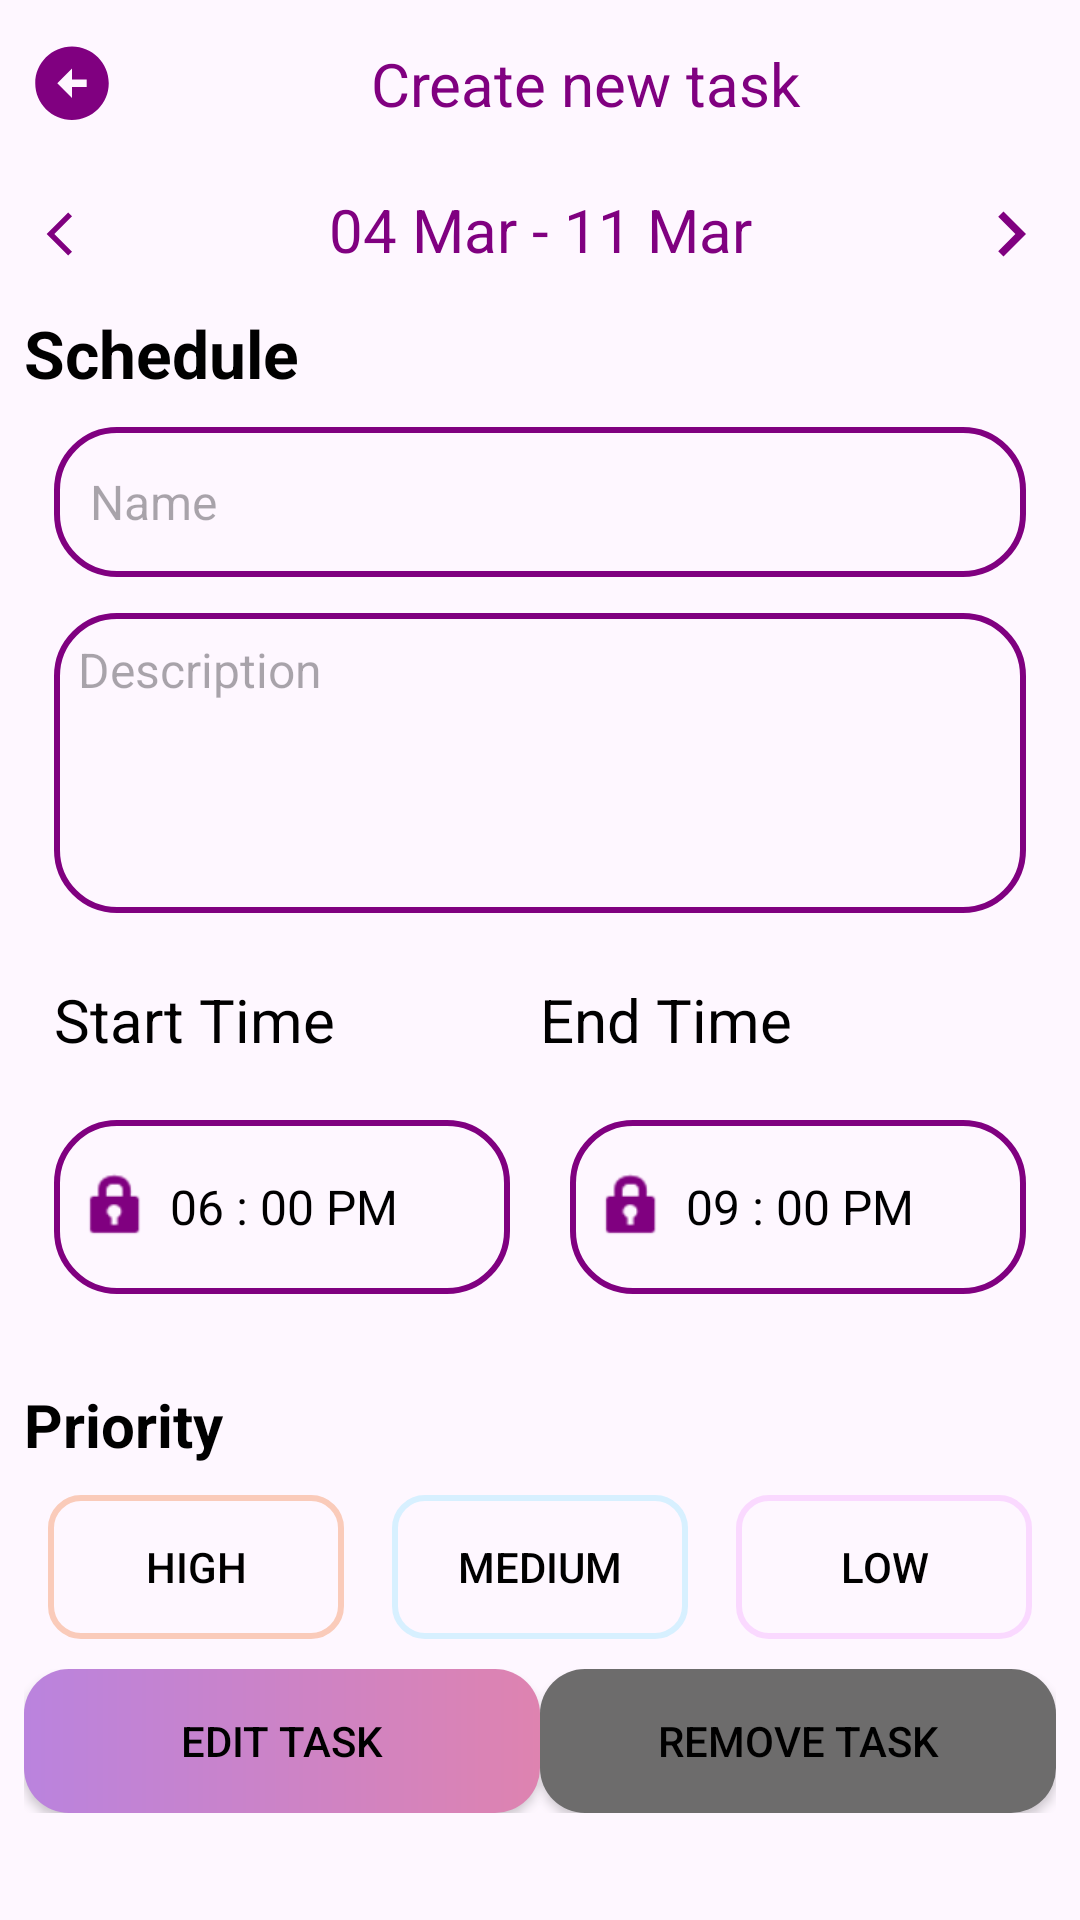

Named icons in this screenshot (1080x1920) and their centers, (x,y):
back: (72,83), (59,234)
next: (1012,234)
